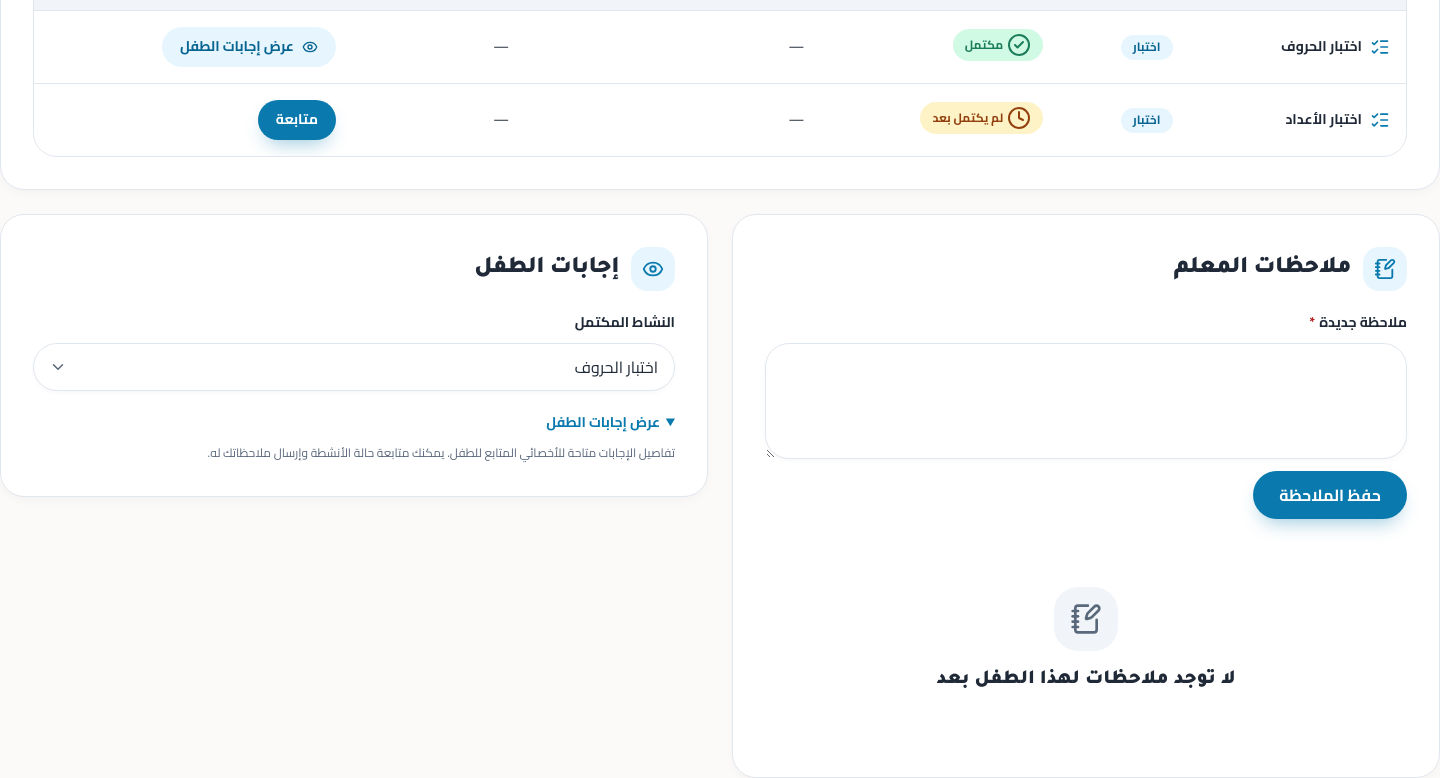
Test case: TeacherChildPage — plan-focused view (client revision 2026-10) › edits a note
(page scrolled)
Check: the element "ملاحظات المعلم" is shown, box 732,214 -> 1439,777
Type "ملاحظة أولى" into the text box labelled "ملاحظة جديدة*" at (1086, 401), box 765,343 -> 1407,459
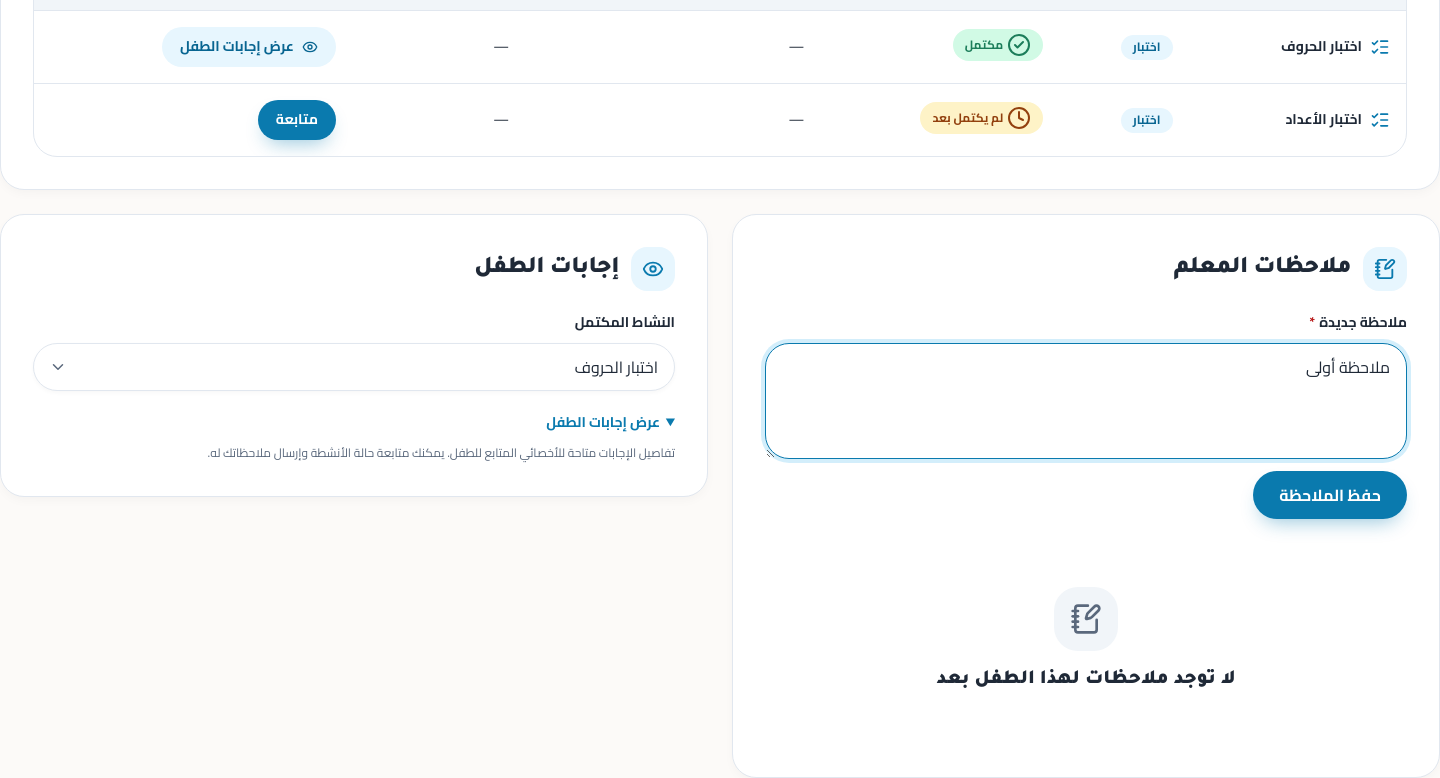
Click the button "حفظ الملاحظة" at (1330, 494), box 1253,470 -> 1407,518
(page scrolled)
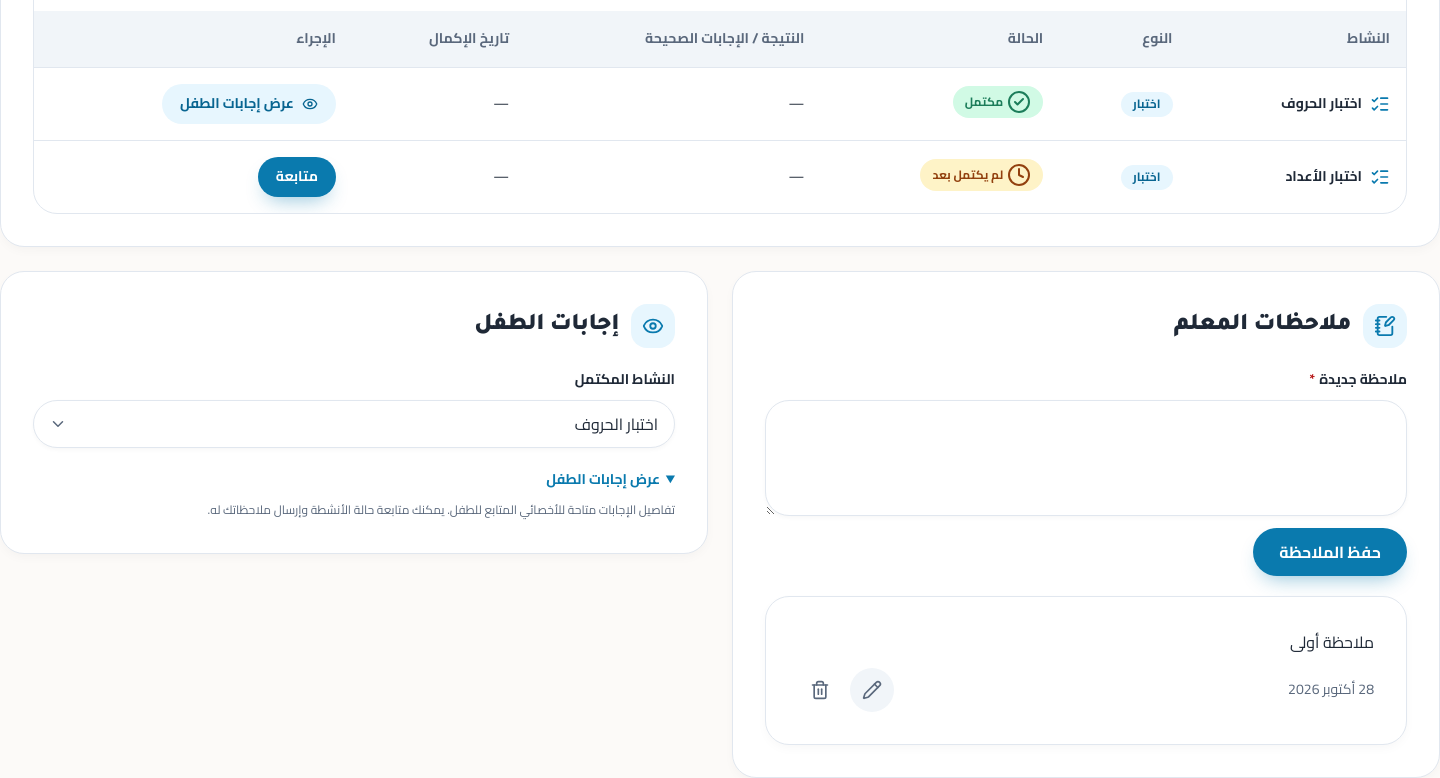
Check: the text "ملاحظة أولى" is shown, box 1290,626 -> 1374,656
Click the button named "تعديل الملاحظة" at (872, 690), box 850,668 -> 894,712
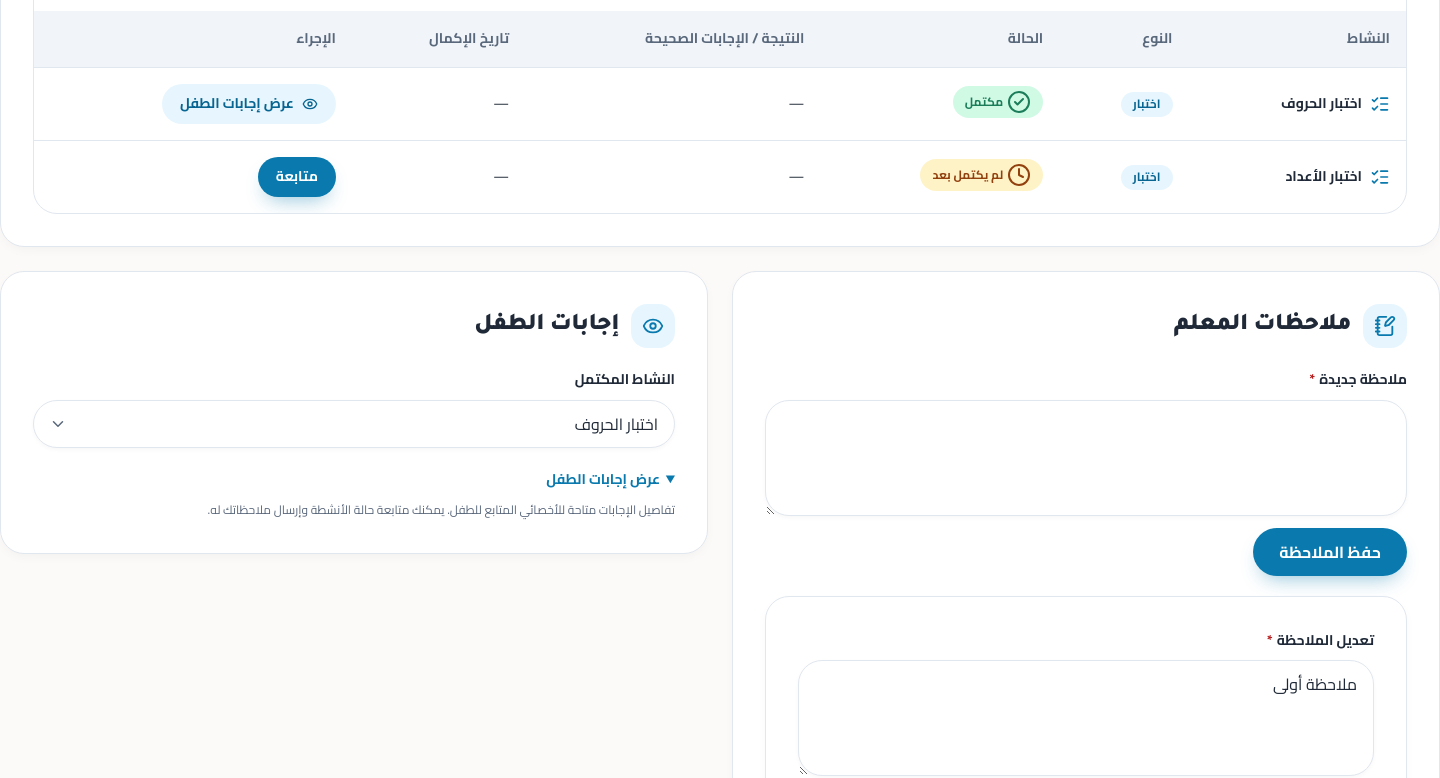
Replace the text in the text box labelled "تعديل الملاحظة*" with "ملاحظة معدّلة" at (1086, 718), box 798,660 -> 1374,776
(page scrolled)
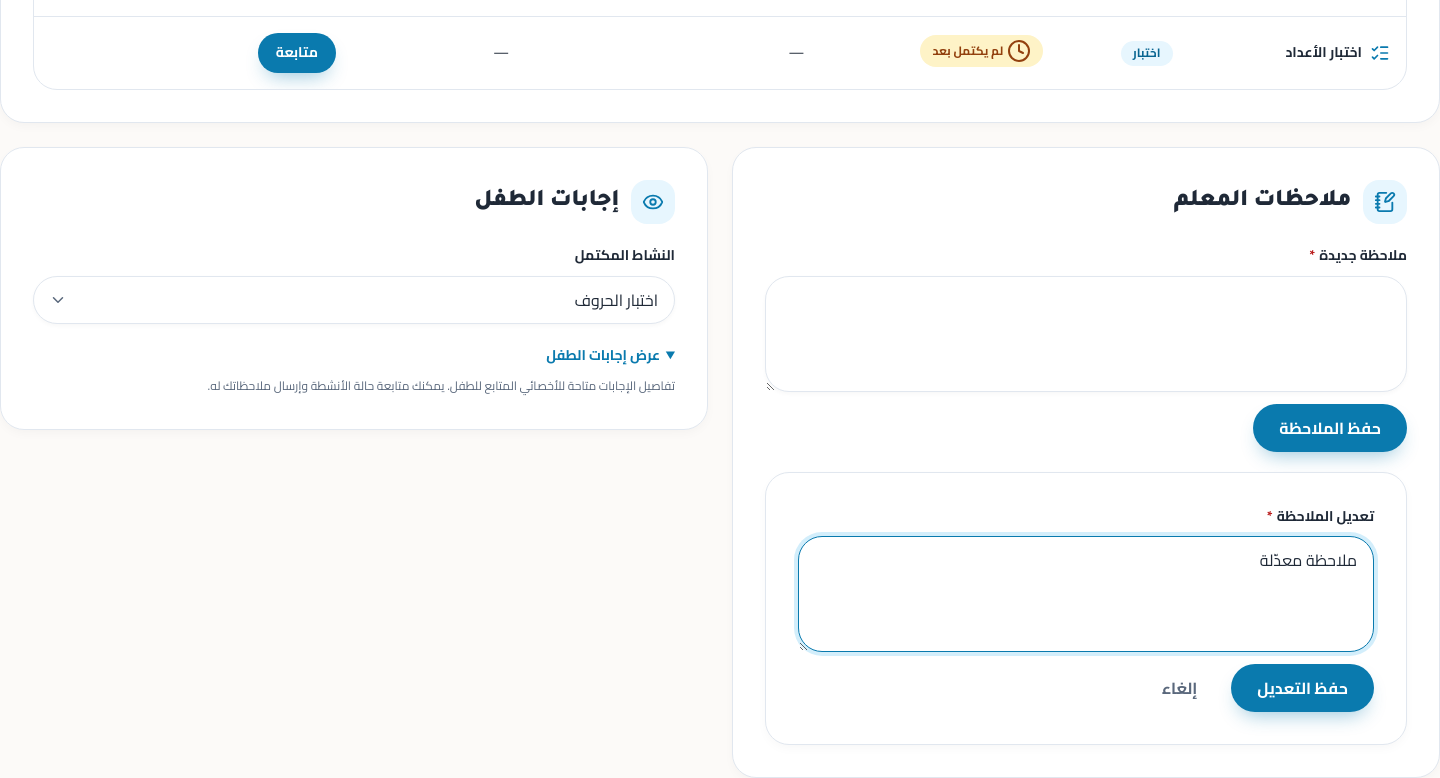
Click the button "حفظ التعديل" at (1303, 688), box 1231,664 -> 1374,712
(page scrolled)
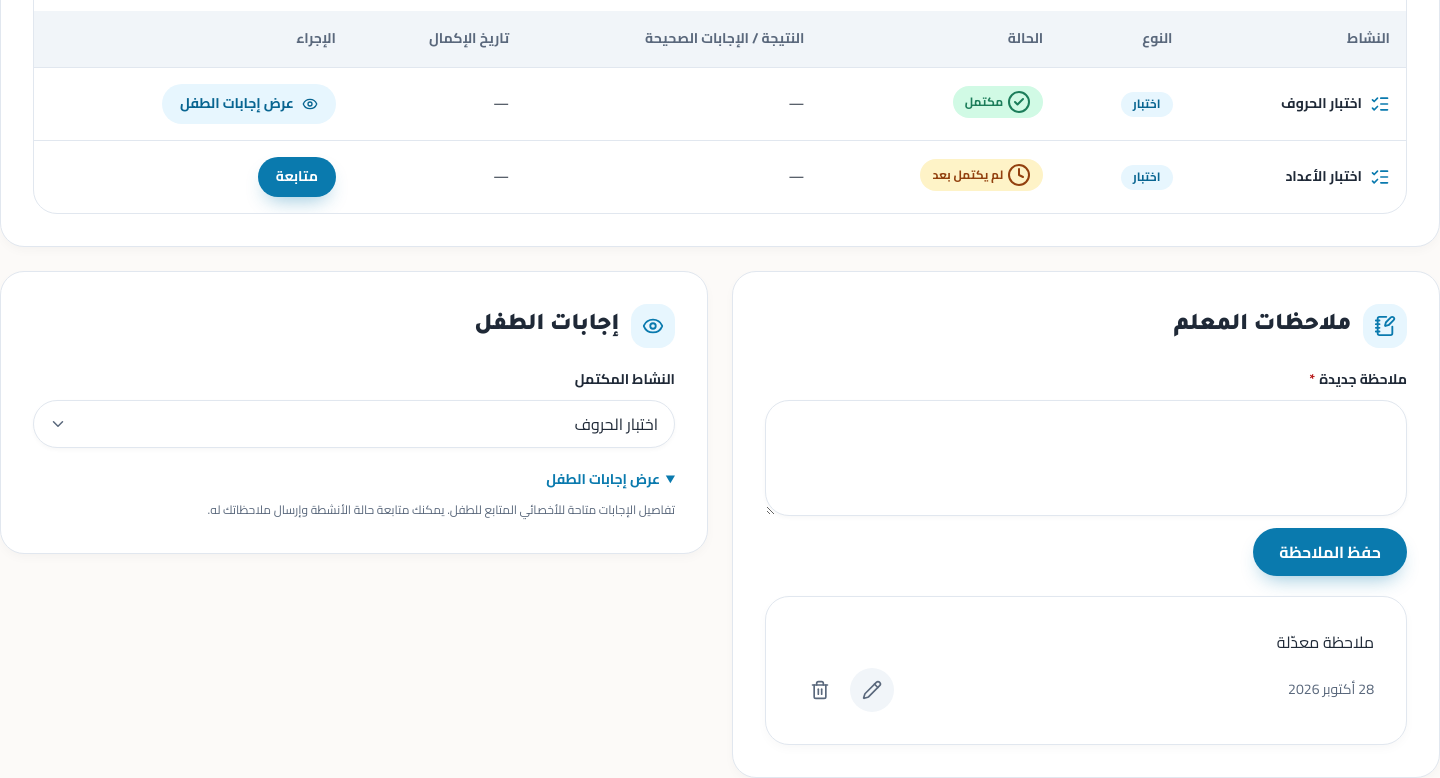
Check: the text "ملاحظة معدّلة" is shown, box 1277,626 -> 1374,656
